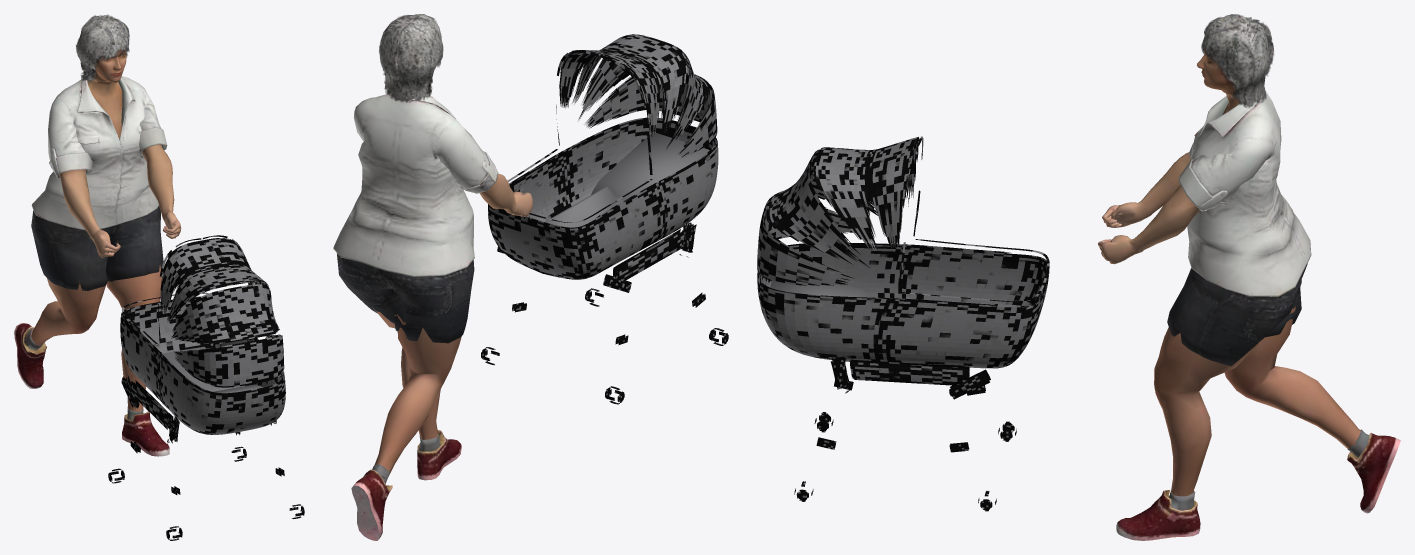
3 renders of one model, left to right at view 1: azimuth 30°, elevation 25°; view 2: azimuth 150°, elevation 25°; view 3: azimuth 270°, elevation 25°, orthographic. The views are drawn at different scales.
Visible parts, largest first — view 1: p04857, p04857_props; view 2: p04857, p04857_props; view 3: p04857, p04857_props.
Part boxes in pixels (left/top/right/bottom): p04857: left=14, top=14, right=181, bottom=456; p04857_props: left=108, top=235, right=304, bottom=540; p04857: left=333, top=14, right=532, bottom=540; p04857_props: left=481, top=34, right=728, bottom=404; p04857: left=1098, top=14, right=1400, bottom=540; p04857_props: left=757, top=136, right=1049, bottom=511.
Bounding box in the file's own units: 0.6708 × 1.64 × 1.87.
2 materials, 2 textured.
